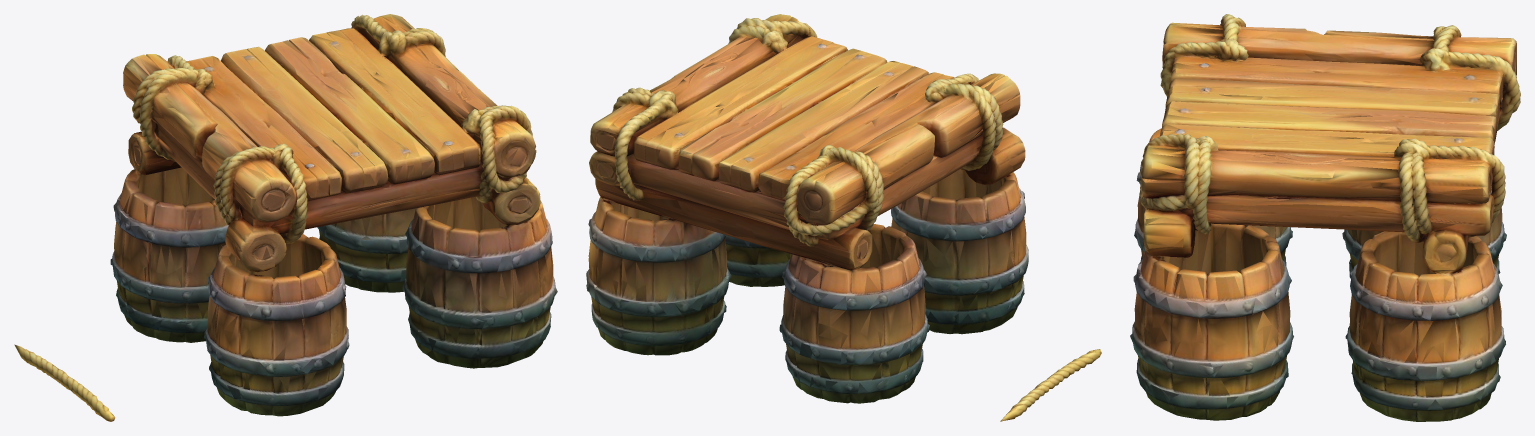
Rendered from sal.glb.
The picture shows the model from 3 angles, left to right: view 1: azimuth 30°, elevation 25°; view 2: azimuth 150°, elevation 25°; view 3: azimuth 270°, elevation 25°; orthographic projection. The views are drawn at different scales.
Visible parts, largest first — view 1: tripo_node_1f8df01d-004b-42dd-a3ee-603ec90677ff; view 2: tripo_node_1f8df01d-004b-42dd-a3ee-603ec90677ff; view 3: tripo_node_1f8df01d-004b-42dd-a3ee-603ec90677ff.
Part boxes in pixels (box(x1,y1,x2,y2)): tripo_node_1f8df01d-004b-42dd-a3ee-603ec90677ff: box(14, 14, 557, 421); tripo_node_1f8df01d-004b-42dd-a3ee-603ec90677ff: box(586, 14, 1101, 421); tripo_node_1f8df01d-004b-42dd-a3ee-603ec90677ff: box(1130, 14, 1520, 421).
Size of the model in its own units: 0.9792 by 0.5271 by 0.718.
1 material, 1 textured.
